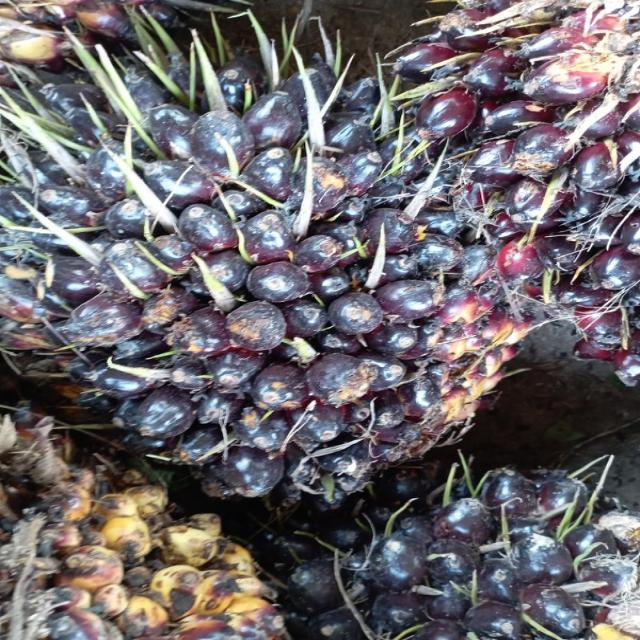fraksi 00: (0, 47, 542, 506)
